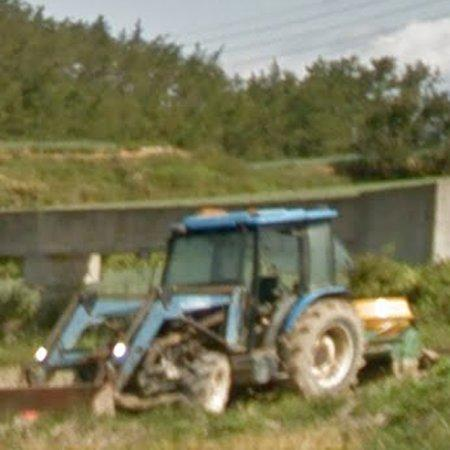tractors: (0, 198, 423, 417)
